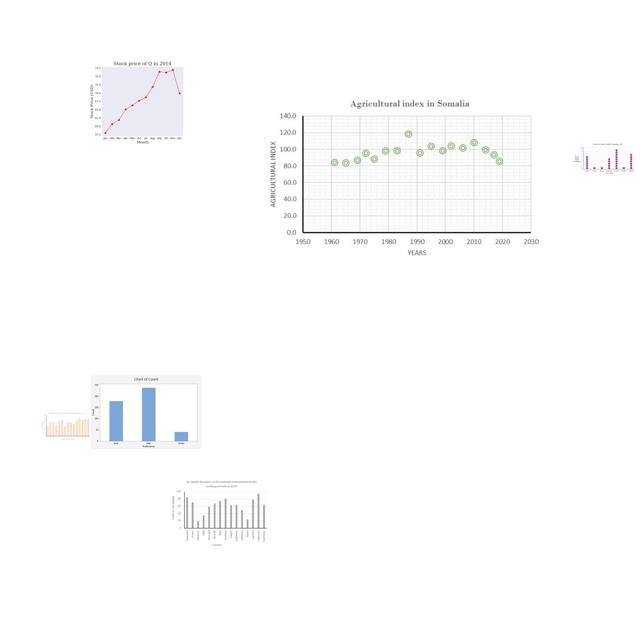Graph: (262, 93, 544, 258), (81, 56, 201, 146), (91, 375, 201, 449), (169, 478, 269, 549), (572, 143, 635, 175), (41, 411, 91, 441)
